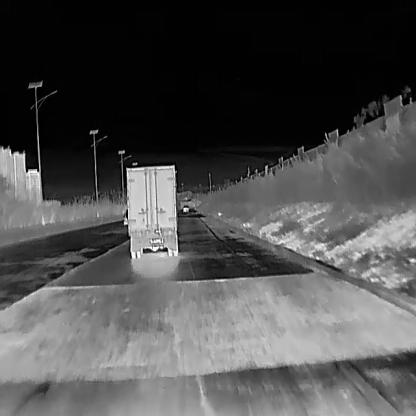car: (182, 203, 189, 211)
truck: (125, 162, 179, 258)
